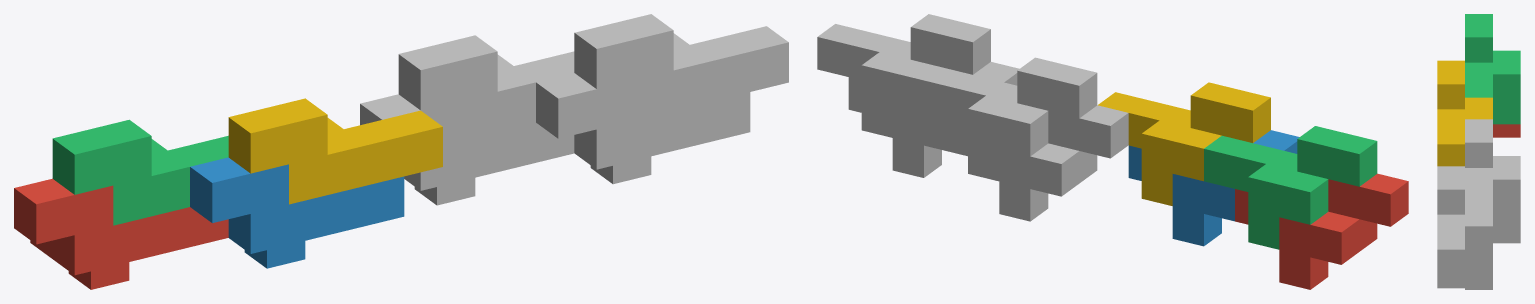
File: tiling.obj
3 views of the same model, side by side, from view 1: azimuth 30°, elevation 25°; view 2: azimuth 150°, elevation 25°; view 3: azimuth 270°, elevation 25° (orthographic). The views are drawn at different scales.
Parts seen in each view (by area): view 1: copy_1_domain_4, copy_1_domain_8, copy_1_domain_2, copy_1_domain_6, copy_1_domain_1, copy_1_domain_7, copy_1_domain_3, copy_1_domain_5; view 2: copy_1_domain_7, copy_1_domain_3, copy_1_domain_8, copy_1_domain_4, copy_1_domain_1, copy_1_domain_5, copy_1_domain_6, copy_1_domain_2; view 3: copy_1_domain_8, copy_1_domain_3, copy_1_domain_7, copy_1_domain_4, copy_1_domain_6, copy_1_domain_5, copy_1_domain_1.
Part boxes in pixels (x1,y1,x2,y2): copy_1_domain_4: [228, 98, 442, 204]; copy_1_domain_8: [574, 14, 788, 119]; copy_1_domain_2: [190, 157, 404, 268]; copy_1_domain_6: [536, 73, 750, 184]; copy_1_domain_1: [14, 178, 228, 289]; copy_1_domain_7: [398, 35, 574, 141]; copy_1_domain_3: [52, 119, 228, 225]; copy_1_domain_5: [360, 94, 574, 205]; copy_1_domain_7: [924, 57, 1097, 181]; copy_1_domain_3: [1204, 126, 1377, 249]; copy_1_domain_8: [817, 14, 990, 137]; copy_1_domain_4: [1098, 82, 1270, 205]; copy_1_domain_1: [1235, 173, 1408, 289]; copy_1_domain_5: [955, 105, 1128, 221]; copy_1_domain_6: [848, 62, 1019, 177]; copy_1_domain_2: [1128, 130, 1299, 246]; copy_1_domain_8: [1437, 166, 1492, 276]; copy_1_domain_3: [1465, 14, 1520, 124]; copy_1_domain_7: [1465, 119, 1520, 229]; copy_1_domain_4: [1437, 60, 1492, 166]; copy_1_domain_6: [1437, 275, 1492, 289]; copy_1_domain_5: [1493, 229, 1520, 243]; copy_1_domain_1: [1493, 124, 1520, 137].
Size of the model in its own units: 19 by 4 by 3.
